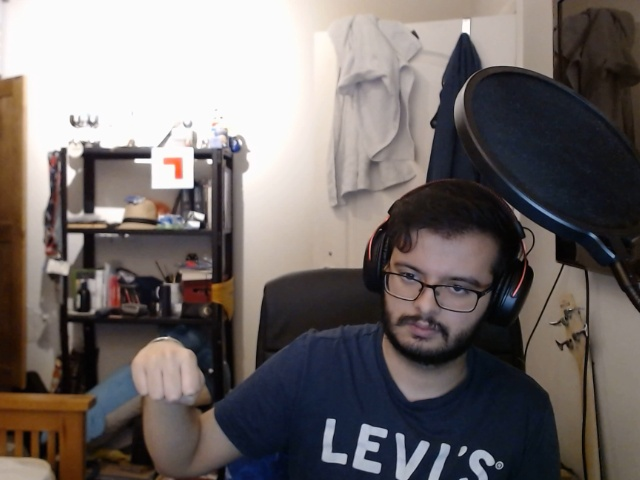Yes: (125, 325, 212, 422)
